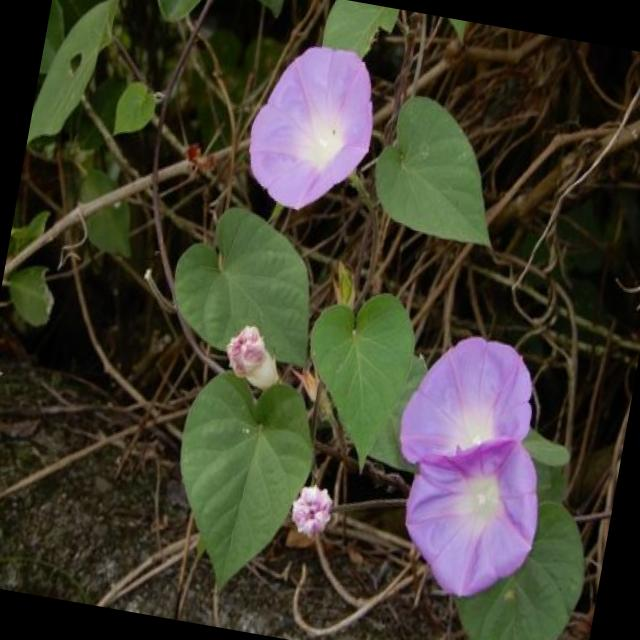ipomoea: (367, 320, 571, 613), (232, 30, 390, 226), (215, 316, 290, 398), (282, 477, 338, 546)
